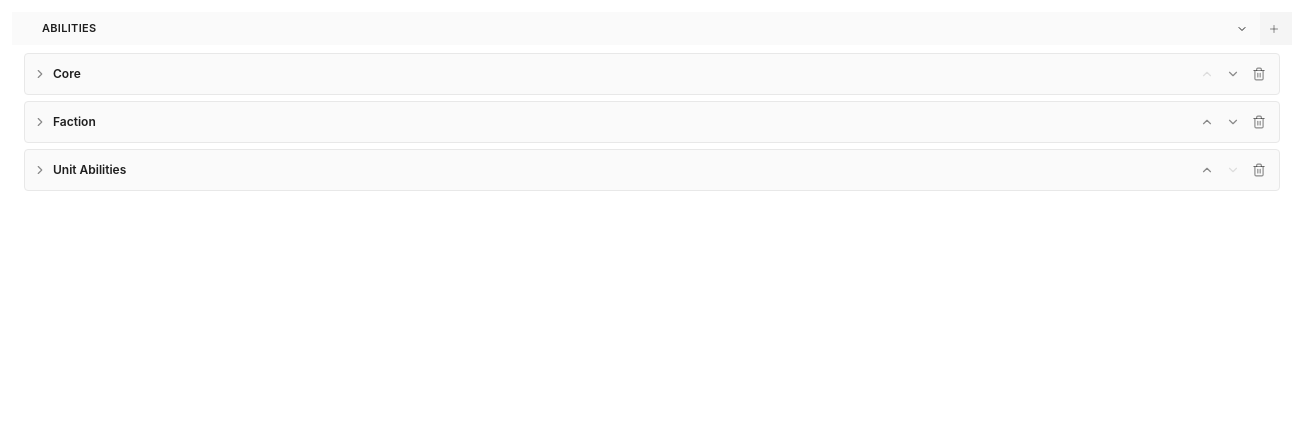
it: AbilitiesSchemaEditor › renders all category labels
Check: the text "Core" is shown, box [53,65,81,84]
Check: the text "Faction" is shown, box [53,113,96,132]
Click the button "Core".
click(40, 74)  # box [33,63,1189,86]
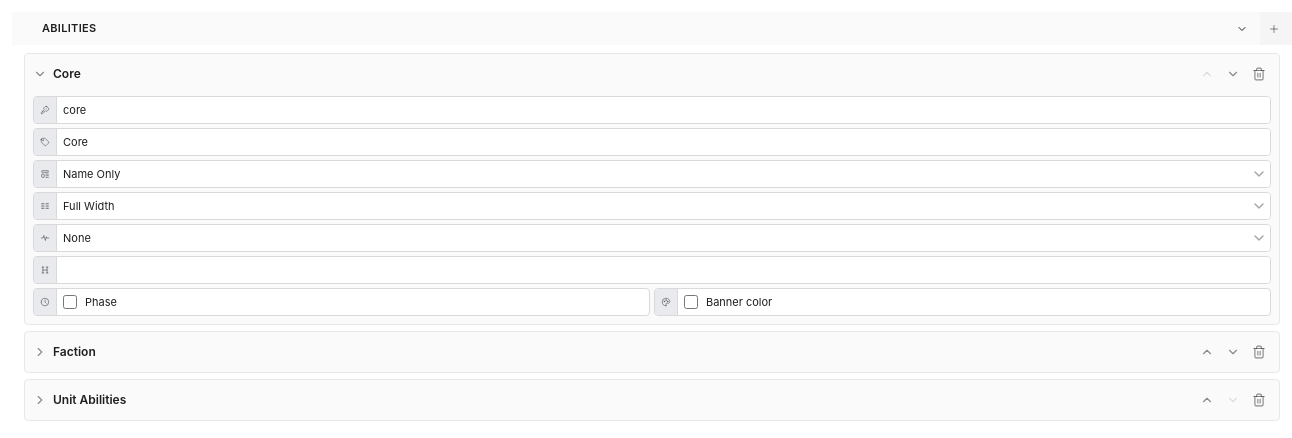
Check: the field showing "Core" is shown, box [57,129,1270,155]
